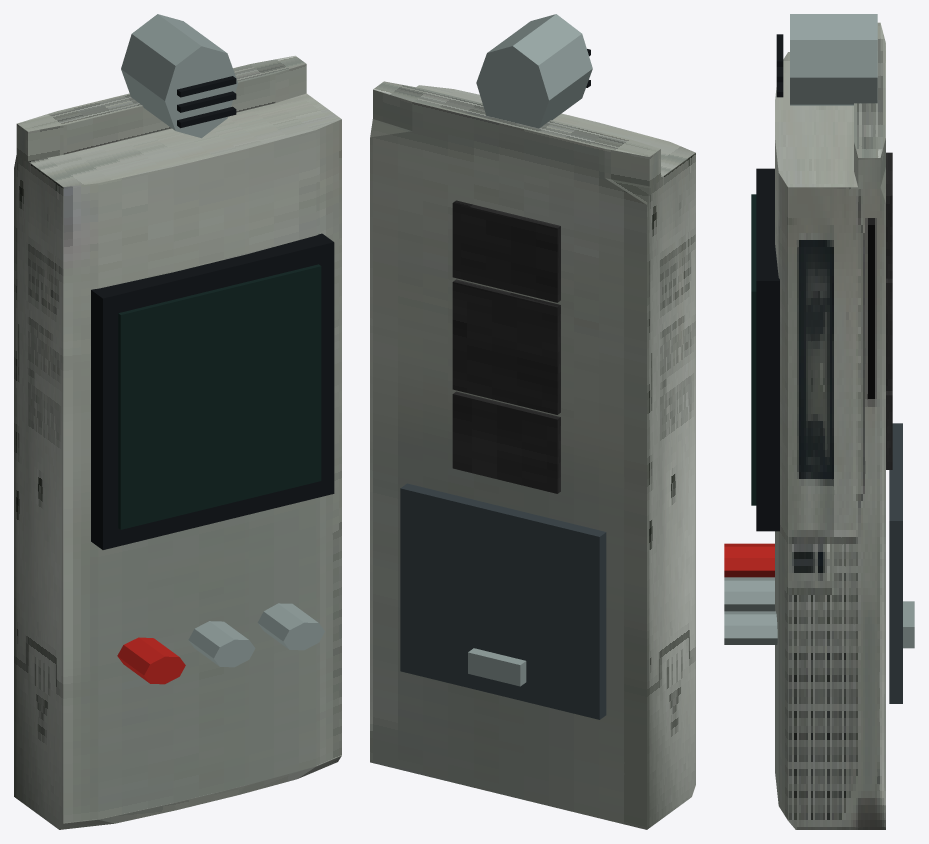
The model's file is blender_sound_recorder_1.glb.
The picture shows the model from 3 angles, left to right: view 1: azimuth 30°, elevation 25°; view 2: azimuth 150°, elevation 25°; view 3: azimuth 270°, elevation 25°; orthographic projection.
Visible parts, largest first — view 1: Beckenburg_sound_recorder_T1; view 2: Beckenburg_sound_recorder_T1; view 3: Beckenburg_sound_recorder_T1.
Boxes of the visible parts, x1,y1,x2,y2 form: Beckenburg_sound_recorder_T1: (14, 14, 341, 829); Beckenburg_sound_recorder_T1: (370, 14, 695, 829); Beckenburg_sound_recorder_T1: (724, 14, 914, 829).
Size of the model in its own units: 0.095 by 0.245 by 0.0565.
Materials: 1 (1 with a texture image).
